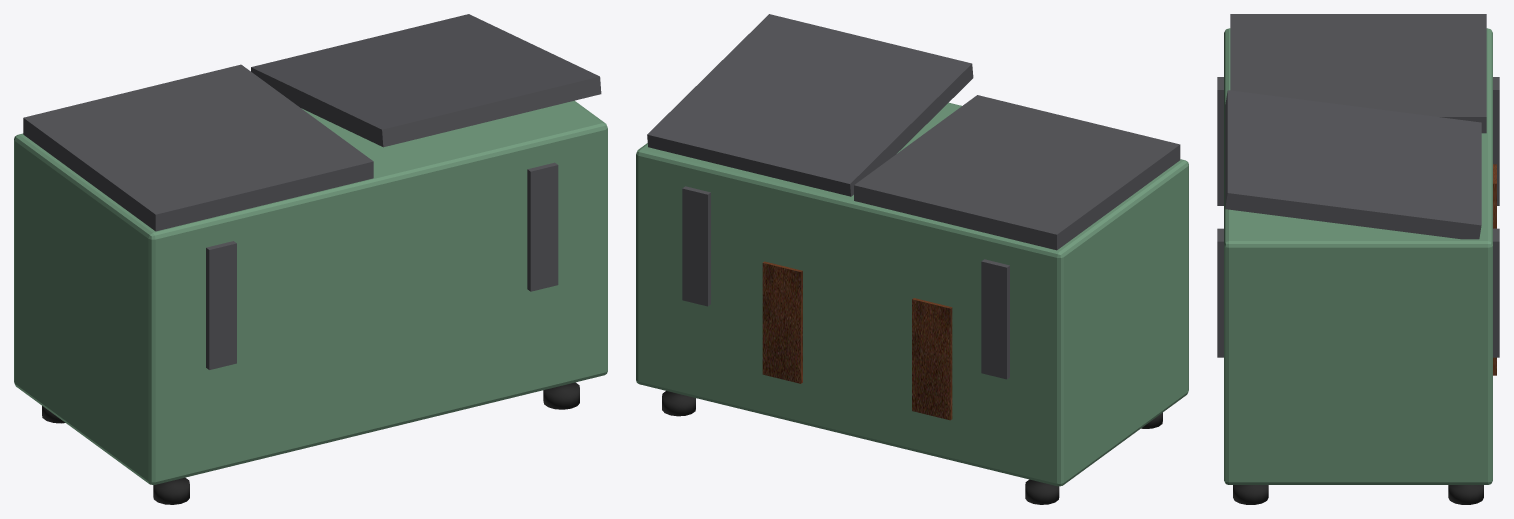
The model's file is WK_PRP_Dumpster.glb.
3 views of the same model, side by side, from view 1: azimuth 30°, elevation 25°; view 2: azimuth 150°, elevation 25°; view 3: azimuth 270°, elevation 25° (orthographic). The views are drawn at different scales.
Visible parts, largest first — view 1: WK_PRP_Dumpster_P01, WK_PRP_Dumpster_P02, WK_PRP_Dumpster_P03, WK_PRP_Dumpster_P05, WK_PRP_Dumpster_P04, WK_PRP_Dumpster_P08, WK_PRP_Dumpster_P06; view 2: WK_PRP_Dumpster_P01, WK_PRP_Dumpster_P03, WK_PRP_Dumpster_P02, WK_PRP_Dumpster_P11, WK_PRP_Dumpster_P10, WK_PRP_Dumpster_P04, WK_PRP_Dumpster_P05, WK_PRP_Dumpster_P07, WK_PRP_Dumpster_P09; view 3: WK_PRP_Dumpster_P01, WK_PRP_Dumpster_P03, WK_PRP_Dumpster_P02, WK_PRP_Dumpster_P05, WK_PRP_Dumpster_P04, WK_PRP_Dumpster_P08, WK_PRP_Dumpster_P09.
Boxes of the visible parts, x1=… form: WK_PRP_Dumpster_P01: x1=14, y1=100, x2=607, y2=484; WK_PRP_Dumpster_P02: x1=23, y1=64, x2=373, y2=231; WK_PRP_Dumpster_P03: x1=251, y1=14, x2=601, y2=147; WK_PRP_Dumpster_P05: x1=527, y1=162, x2=558, y2=291; WK_PRP_Dumpster_P04: x1=206, y1=241, x2=236, y2=369; WK_PRP_Dumpster_P08: x1=543, y1=382, x2=579, y2=409; WK_PRP_Dumpster_P06: x1=153, y1=477, x2=189, y2=504; WK_PRP_Dumpster_P01: x1=636, y1=102, x2=1188, y2=486; WK_PRP_Dumpster_P03: x1=647, y1=14, x2=973, y2=196; WK_PRP_Dumpster_P02: x1=854, y1=95, x2=1180, y2=250; WK_PRP_Dumpster_P11: x1=762, y1=261, x2=802, y2=383; WK_PRP_Dumpster_P10: x1=912, y1=298, x2=952, y2=420; WK_PRP_Dumpster_P04: x1=981, y1=259, x2=1009, y2=379; WK_PRP_Dumpster_P05: x1=682, y1=186, x2=710, y2=306; WK_PRP_Dumpster_P07: x1=1025, y1=479, x2=1059, y2=504; WK_PRP_Dumpster_P09: x1=662, y1=391, x2=695, y2=416; WK_PRP_Dumpster_P01: x1=1224, y1=28, x2=1492, y2=484; WK_PRP_Dumpster_P03: x1=1225, y1=90, x2=1481, y2=239; WK_PRP_Dumpster_P02: x1=1230, y1=14, x2=1486, y2=133; WK_PRP_Dumpster_P05: x1=1217, y1=228, x2=1499, y2=357; WK_PRP_Dumpster_P04: x1=1217, y1=77, x2=1499, y2=205; WK_PRP_Dumpster_P08: x1=1233, y1=485, x2=1268, y2=504; WK_PRP_Dumpster_P09: x1=1448, y1=485, x2=1483, y2=504.
Bounding box in the file's own units: 2 × 1.36 × 1.1.
4 materials, 1 textured.
